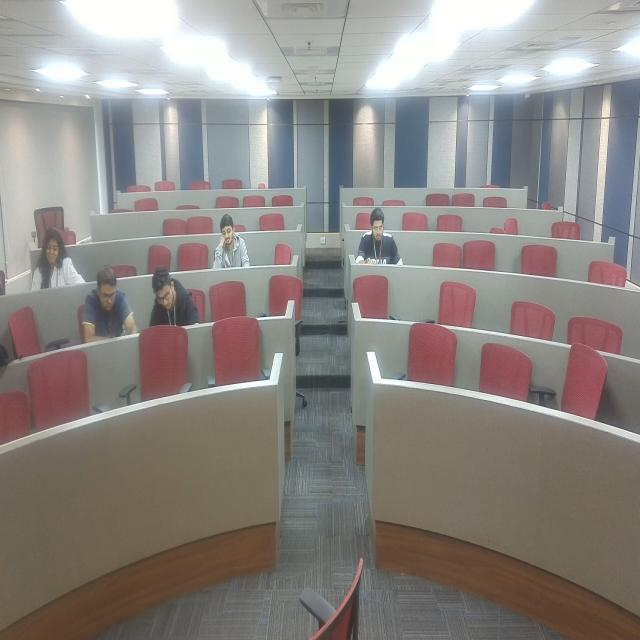cheating: (80, 256, 141, 341), (344, 203, 408, 271), (151, 257, 200, 331)
non-cheating: (24, 223, 94, 300), (208, 203, 254, 272)
